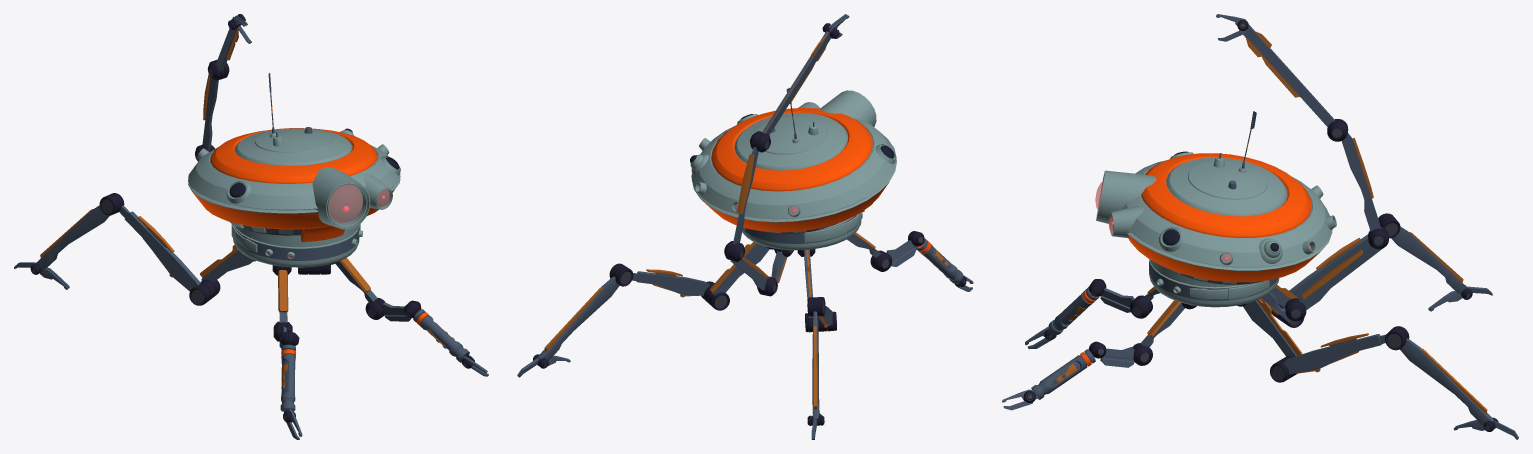
3 views of the same model, side by side, from view 1: azimuth 30°, elevation 25°; view 2: azimuth 150°, elevation 25°; view 3: azimuth 270°, elevation 25° (orthographic). The views are drawn at different scales.
Visible parts, largest first — view 1: Circle, Hand2, hand1, Tail; view 2: Circle, Hand2, Tail, hand1; view 3: Circle, Hand2, Tail, hand1.
Part boxes in pixels (x1,y1,x2,y2): Circle: [188, 73, 400, 267]; Hand2: [14, 193, 330, 305]; hand1: [272, 257, 488, 439]; Tail: [195, 14, 256, 261]; Circle: [690, 87, 896, 250]; Hand2: [517, 242, 836, 439]; Tail: [724, 14, 849, 296]; hand1: [847, 231, 973, 291]; Circle: [1095, 111, 1336, 307]; Hand2: [1237, 213, 1518, 439]; Tail: [1216, 14, 1388, 322]; hand1: [1002, 279, 1196, 410].
Size of the model in its own units: 319 by 353 by 467.
